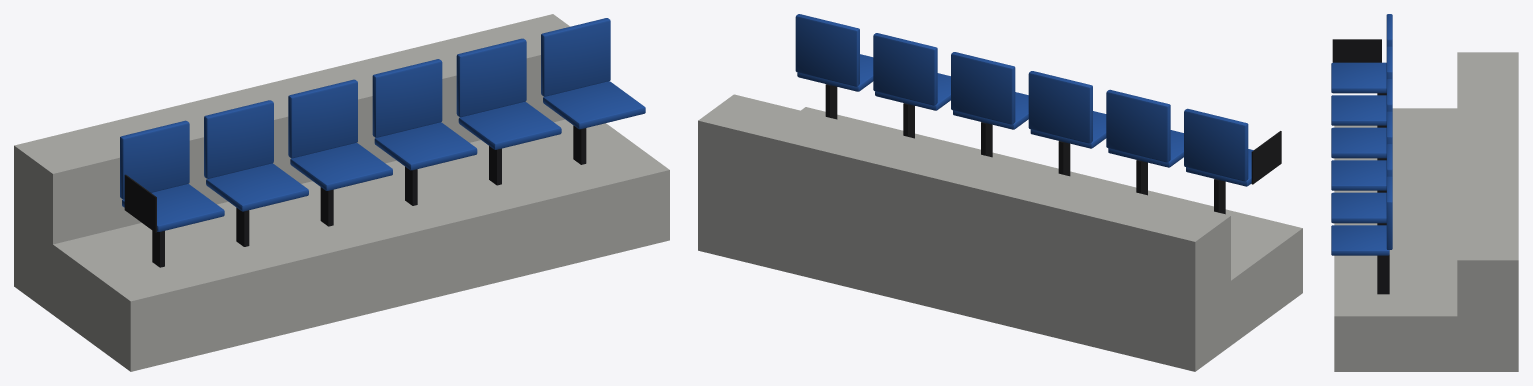
The model's file is stadium-seat-cc0.glb.
The picture shows the model from 3 angles, left to right: view 1: azimuth 30°, elevation 25°; view 2: azimuth 150°, elevation 25°; view 3: azimuth 270°, elevation 25°; orthographic projection. The views are drawn at different scales.
Visible parts, largest first — view 1: Concrete riser - Concrete, light grey, Six stadium seats - Seats, blue plastic, Six stadium seats - Seat frames and feet, black; view 2: Concrete riser - Concrete, light grey, Six stadium seats - Seats, blue plastic, Six stadium seats - Seat frames and feet, black; view 3: Concrete riser - Concrete, light grey, Six stadium seats - Seats, blue plastic, Six stadium seats - Seat frames and feet, black.
Boxes of the visible parts, x1,y1,x2,y2 form: Concrete riser - Concrete, light grey: (14,14,669,371); Six stadium seats - Seats, blue plastic: (120,18,645,231); Six stadium seats - Seat frames and feet, black: (124,125,586,267); Concrete riser - Concrete, light grey: (698,94,1302,371); Six stadium seats - Seats, blue plastic: (795,14,1253,186); Six stadium seats - Seat frames and feet, black: (825,84,1281,214); Concrete riser - Concrete, light grey: (1334,52,1518,371); Six stadium seats - Seats, blue plastic: (1331,14,1392,255); Six stadium seats - Seat frames and feet, black: (1332,39,1389,294).
Size of the model in its own units: 3.2 by 1.15 by 1.22.
Materials: 3 (3 with a texture image).
